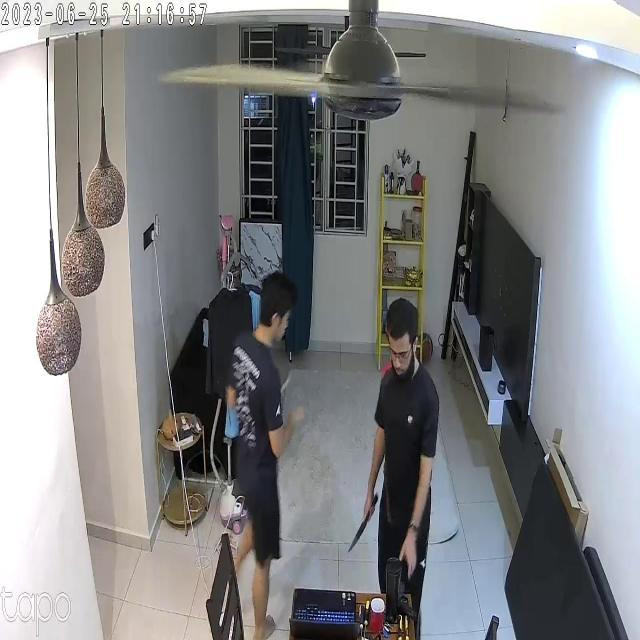Knife: (344, 492, 382, 562)
